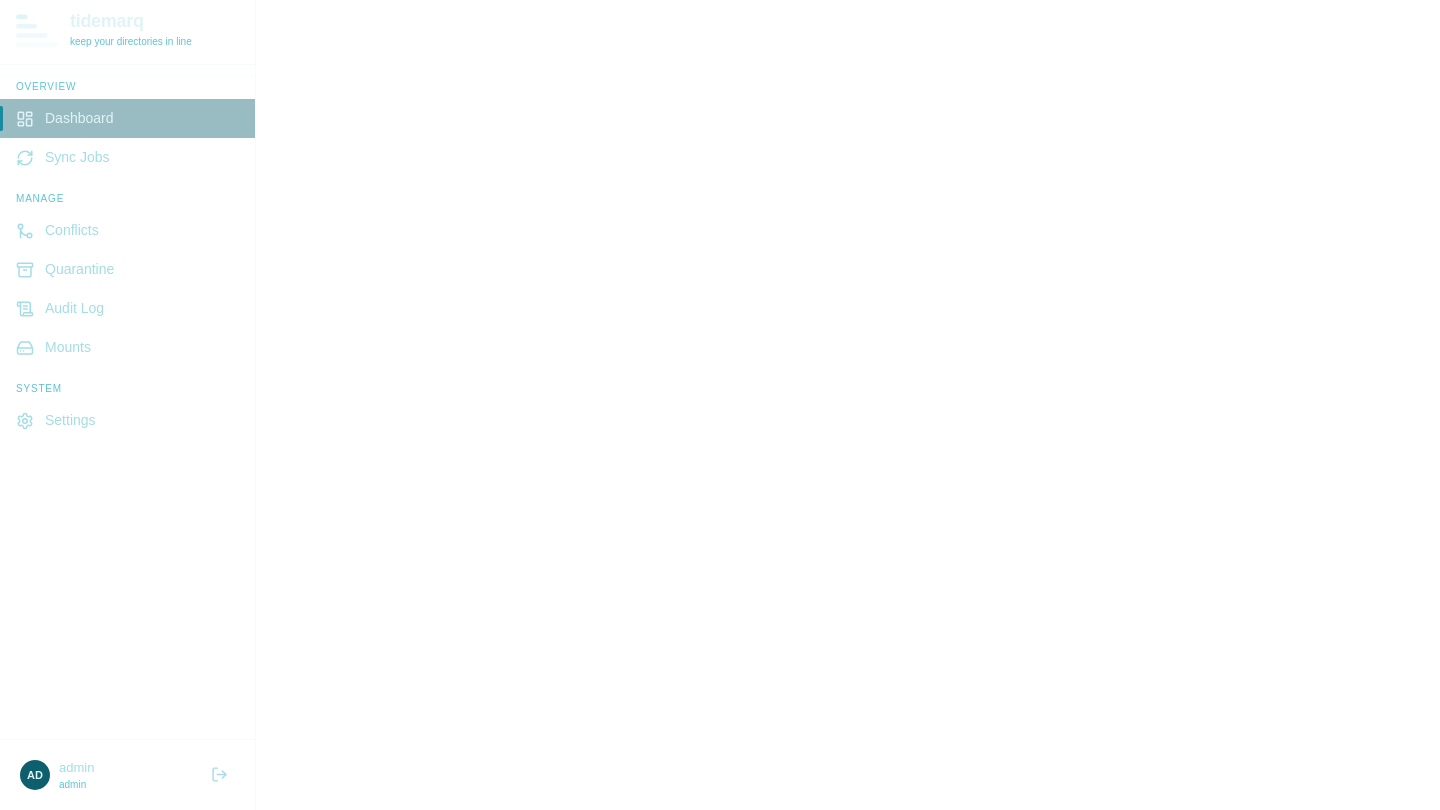
Test: Sidebar › opens sign-out modal when sign-out button clicked
Click the button titled "Sign out" at coordinates (219, 775), box [203,759,235,791]
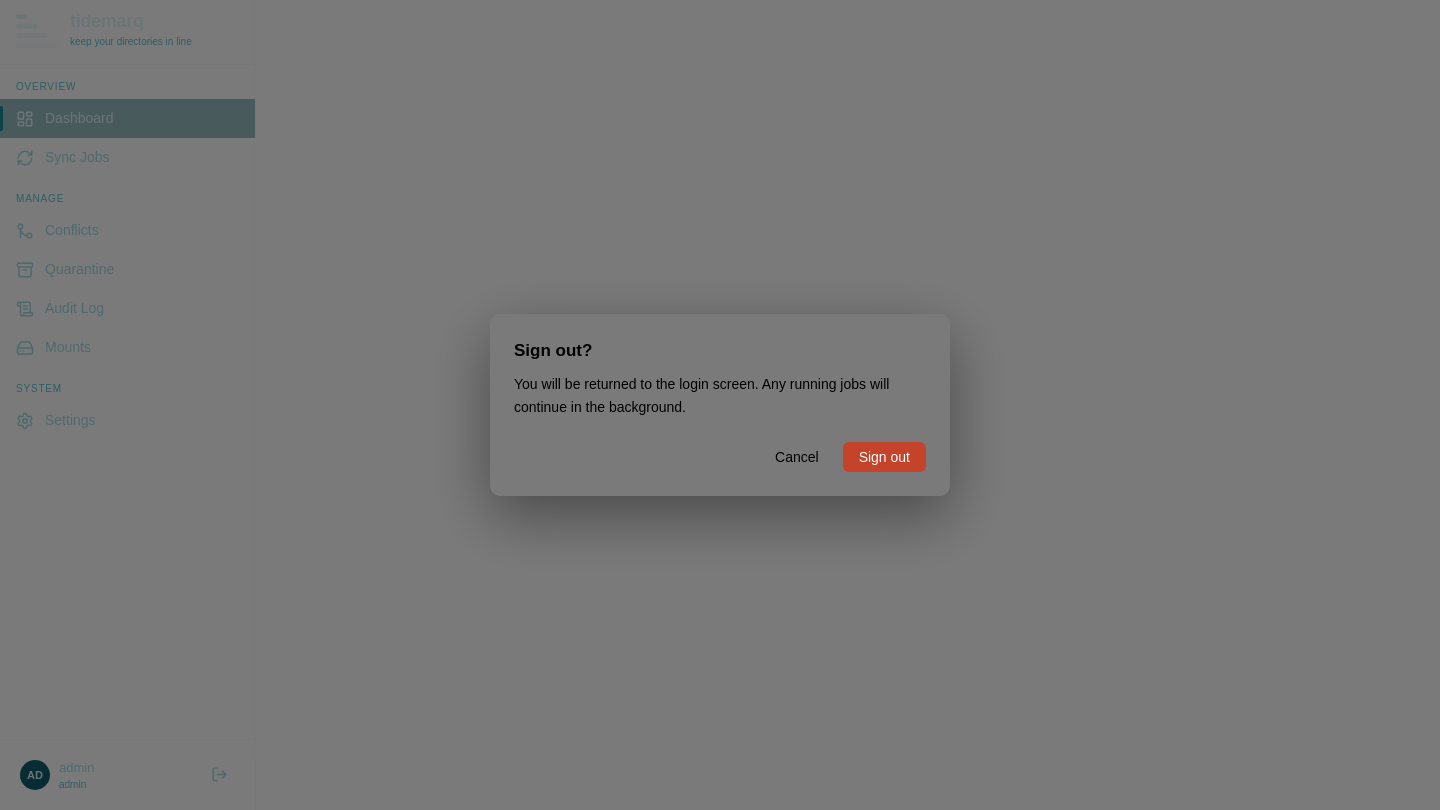
Result: the text "Sign out?" is shown at [514,341,592,360]
